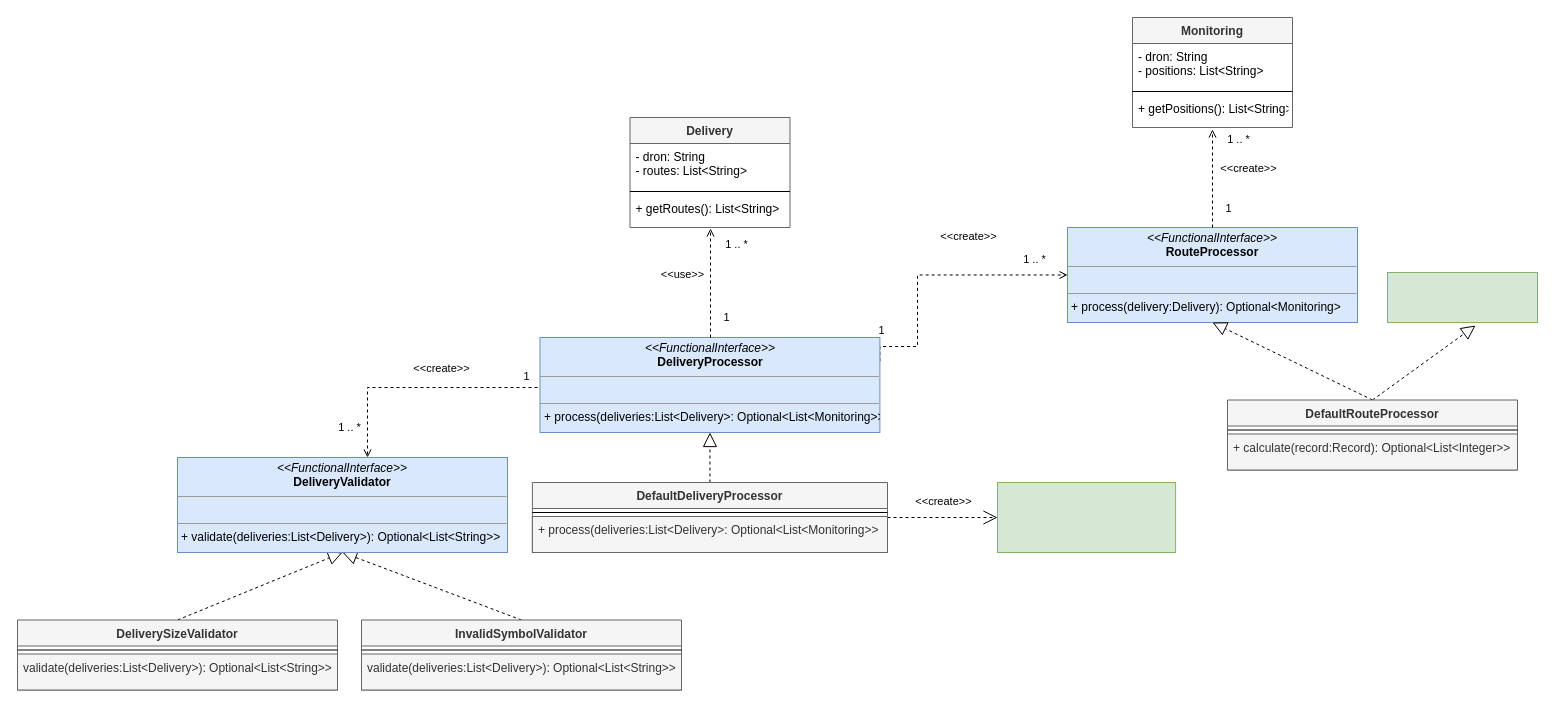
The diagram is 1555 pixels wide and 710 high, and some of its shapes have lost their labels. Here are the shapes that lost their labels. From the top down, the centre of each, then its label:
At pixel 1462 297: "«interface» java.util.concurrent Callable".
At pixel 1086 517: "«interface» java.util.concurrent ExecutorService".
